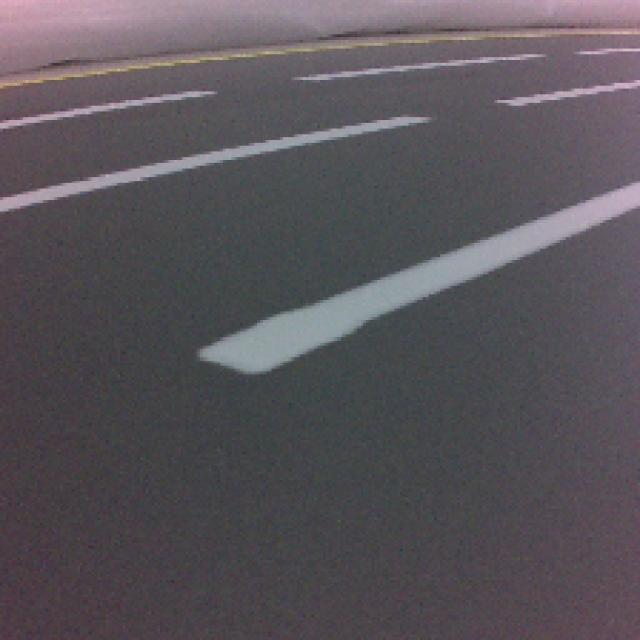Guard rail: (200, 183, 640, 378)
